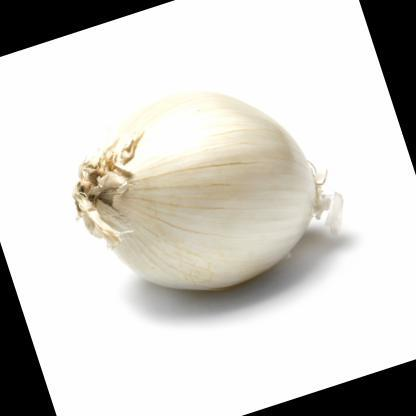onion: (38, 34, 368, 328)
